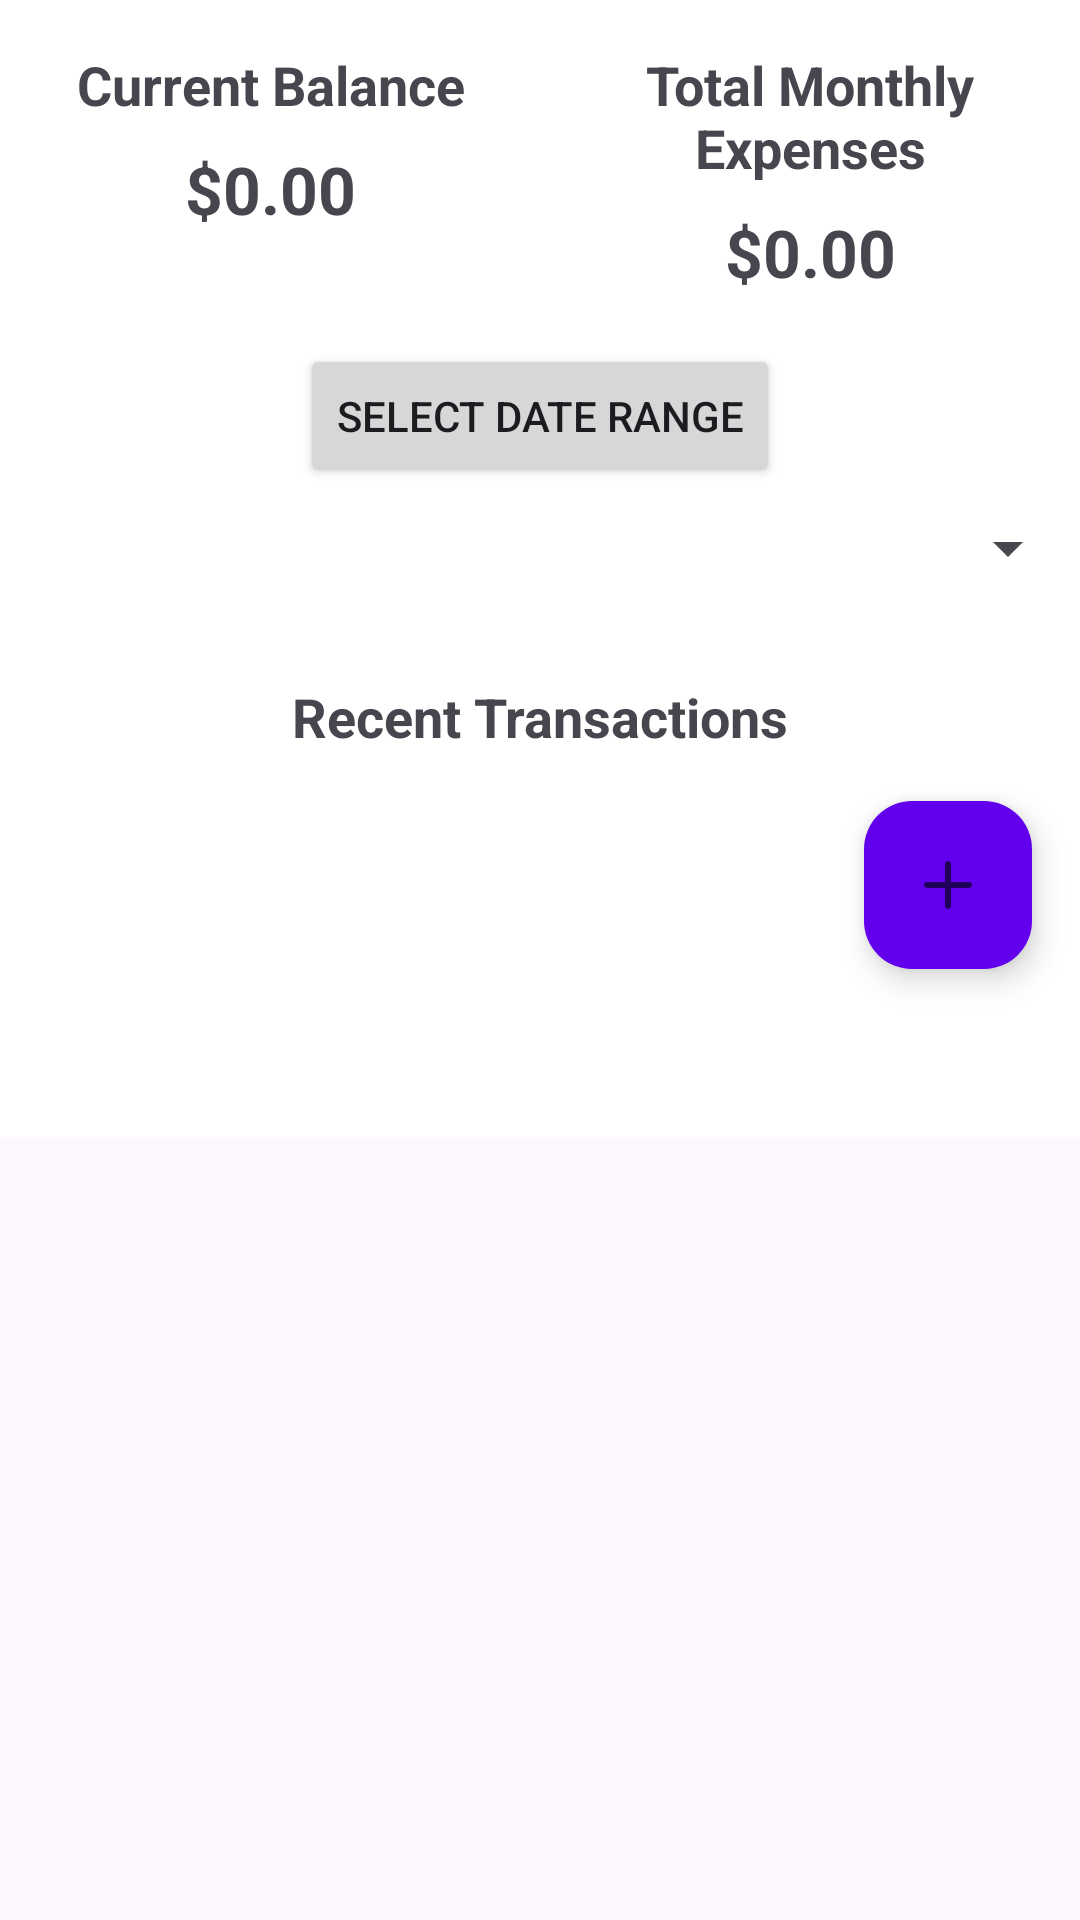

Icon click points for this 1080px x 1920px phone screenshot, format [x,y]:
Add Expense: [948,885]
